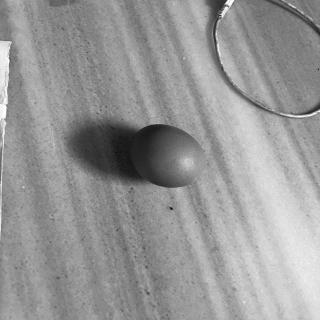Telur: (124, 125, 209, 193)
